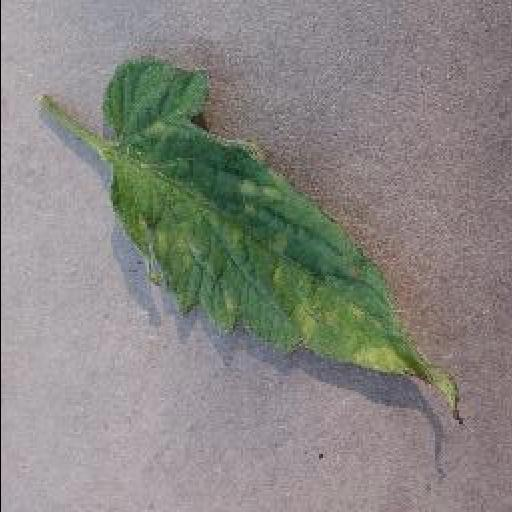disease_tomato: (100, 58, 466, 412)
